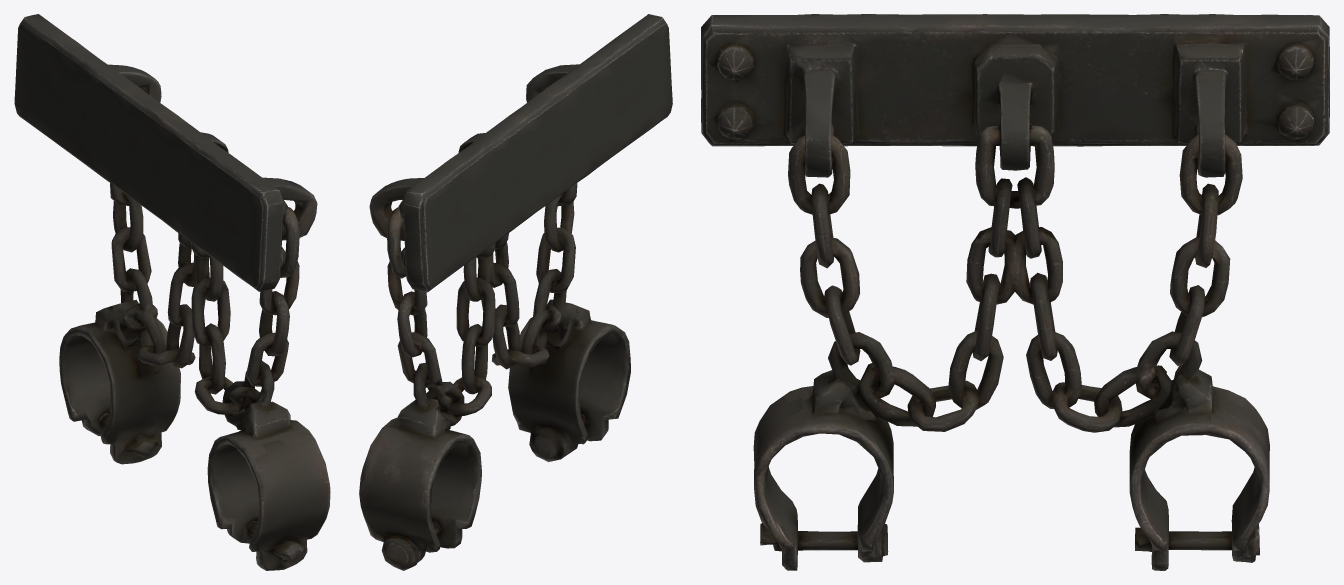
File: chain-shackle.glb
3 views of the same model, side by side, from view 1: azimuth 30°, elevation 25°; view 2: azimuth 150°, elevation 25°; view 3: azimuth 270°, elevation 25° (orthographic). The views are drawn at different scales.
Parts seen in each view (by area): view 1: tripo_node_32f732d7-cf08-4199-b77f-35e2c89978ad; view 2: tripo_node_32f732d7-cf08-4199-b77f-35e2c89978ad; view 3: tripo_node_32f732d7-cf08-4199-b77f-35e2c89978ad.
Part boxes in pixels (bbox=[...]): tripo_node_32f732d7-cf08-4199-b77f-35e2c89978ad: bbox=[14, 14, 330, 570]; tripo_node_32f732d7-cf08-4199-b77f-35e2c89978ad: bbox=[359, 14, 672, 570]; tripo_node_32f732d7-cf08-4199-b77f-35e2c89978ad: bbox=[701, 14, 1329, 570].
Bounding box in the file's own units: 0.2308 × 0.9113 × 1.
Materials: 1 (1 with a texture image).
